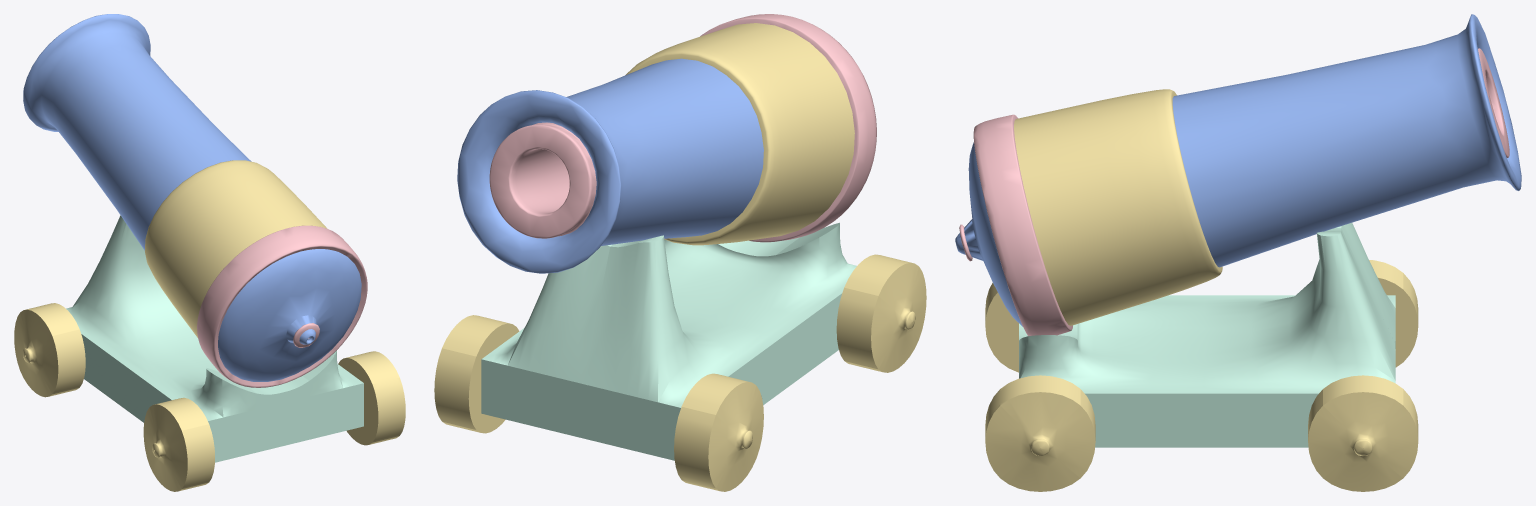
File: cannon.fbx
3 renders of one model, left to right at view 1: azimuth 30°, elevation 25°; view 2: azimuth 150°, elevation 25°; view 3: azimuth 270°, elevation 25°, orthographic. The views are drawn at different scales.
Visible parts, largest first — view 1: s.0044, s.0045, s.0049, s.0054, s.0051; view 2: s.0045, s.0044, s.0049, s.0054, s.0051; view 3: s.0044, s.0045, s.0054, s.0049, s.0051.
Boxes of the visible parts, left/top/right/bottom form: s.0044: left=23, top=14, right=361, bottom=381; s.0045: left=66, top=215, right=363, bottom=462; s.0049: left=14, top=303, right=405, bottom=491; s.0054: left=145, top=160, right=327, bottom=337; s.0051: left=197, top=225, right=367, bottom=387; s.0045: left=481, top=222, right=856, bottom=460; s.0044: left=457, top=58, right=763, bottom=273; s.0049: left=434, top=254, right=926, bottom=491; s.0054: left=625, top=23, right=854, bottom=245; s.0051: left=489, top=14, right=876, bottom=242; s.0044: left=955, top=14, right=1521, bottom=326; s.0045: left=1019, top=222, right=1395, bottom=447; s.0054: left=1014, top=89, right=1222, bottom=325; s.0049: left=985, top=260, right=1418, bottom=491; s.0051: left=973, top=48, right=1509, bottom=335.
Size of the model in its own units: 98.52 by 126 by 162.
